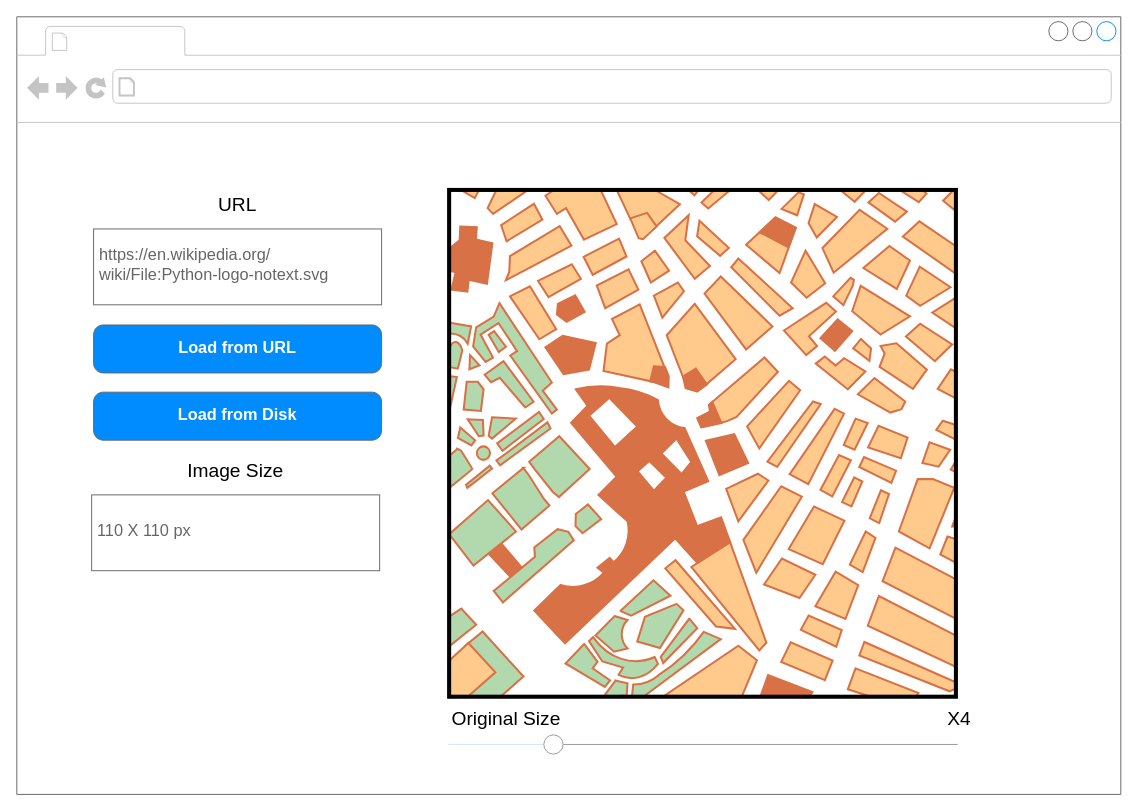
Some shapes in this 1138 by 811 pixel diagram are drawn without their labels. The shapes that lost their labels are listed below. From the top down, each one's centre as x and y in pixels, then its label:
At (x=126, y=40): "Page 1".
At (x=261, y=86): "https://www.vmagnify.io/picture".
